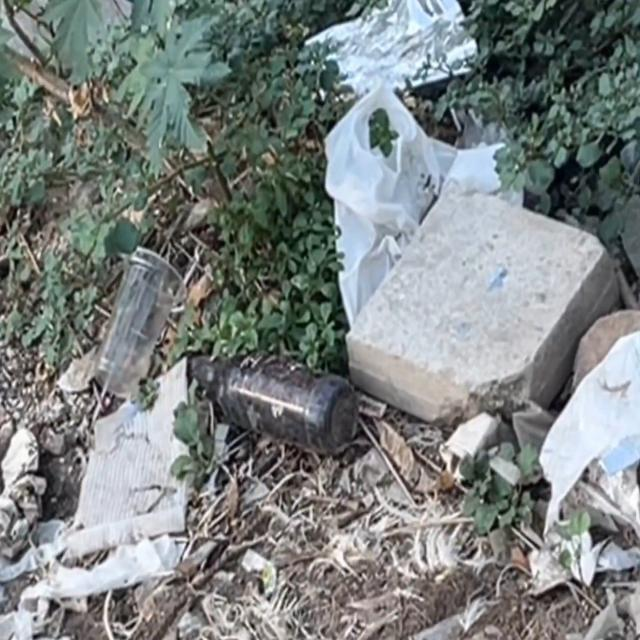paper: (0, 438, 202, 626)
plastic: (312, 92, 528, 258), (80, 238, 204, 394)
